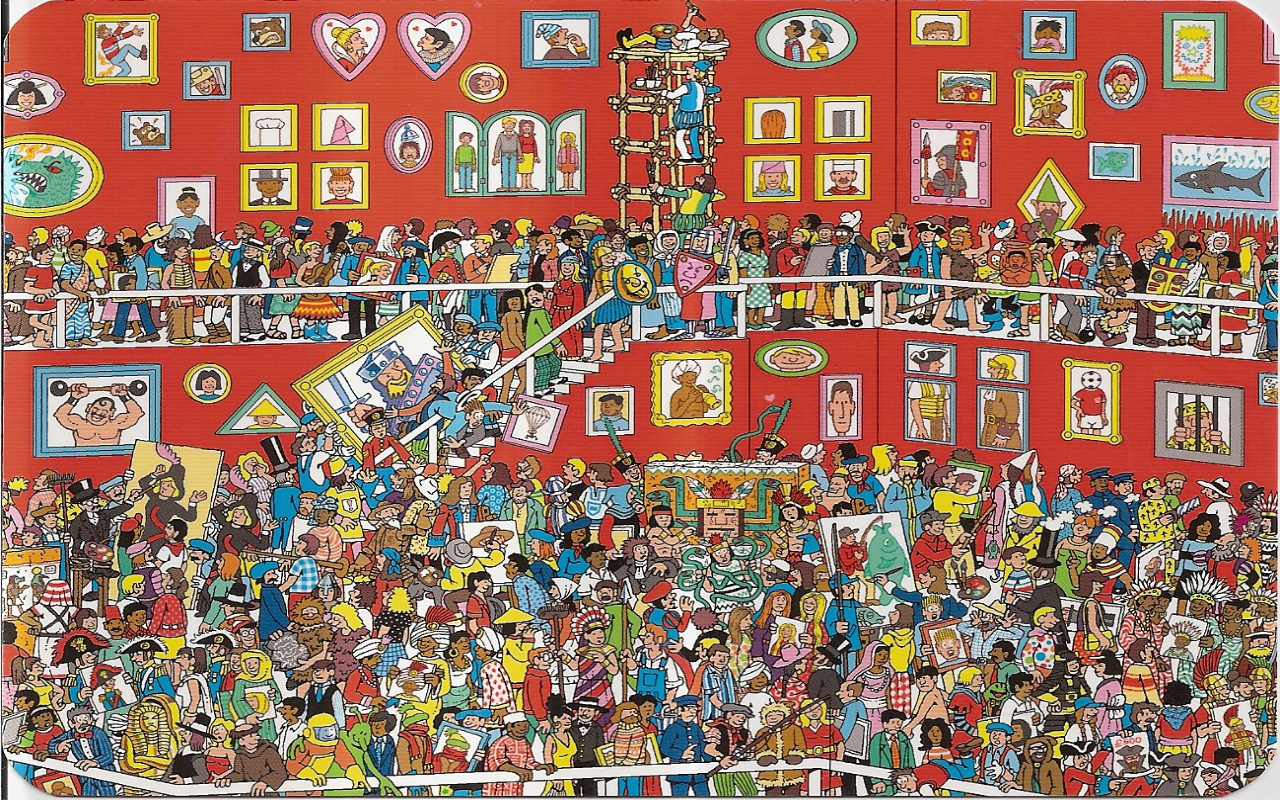waldo: (229, 616, 260, 651)
